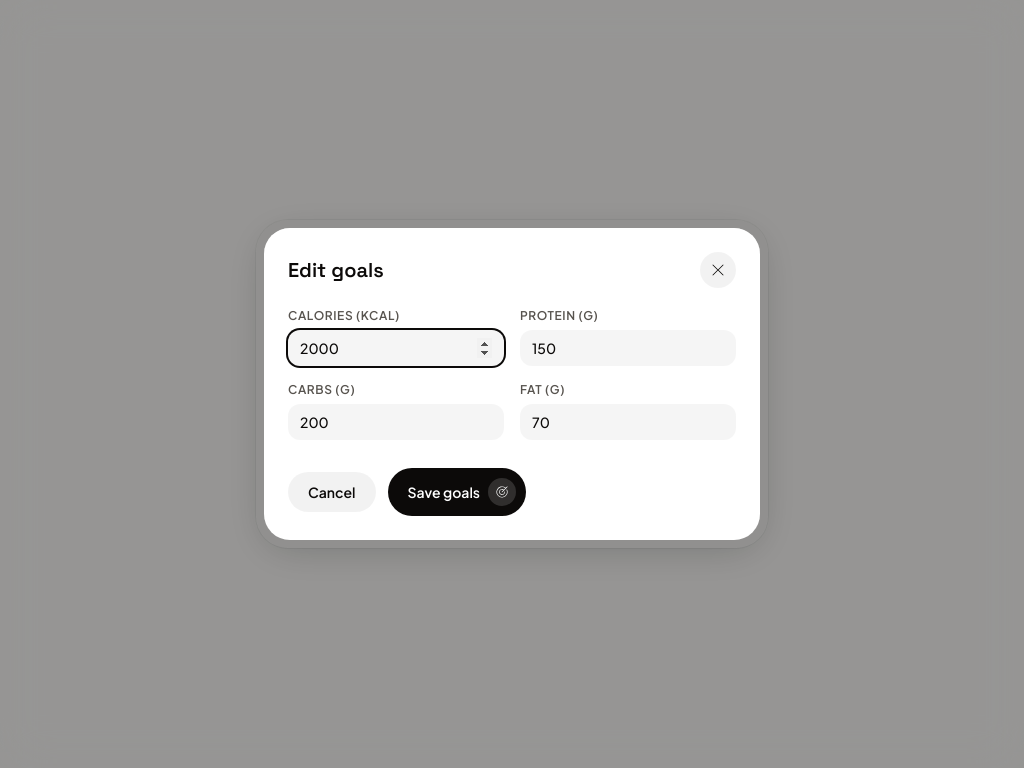
it: GoalsModal — submit flow › shows an API-failure error state (role=alert) and keeps the modal open
Click the button "Save goals": (457, 492) [388,468,526,516]
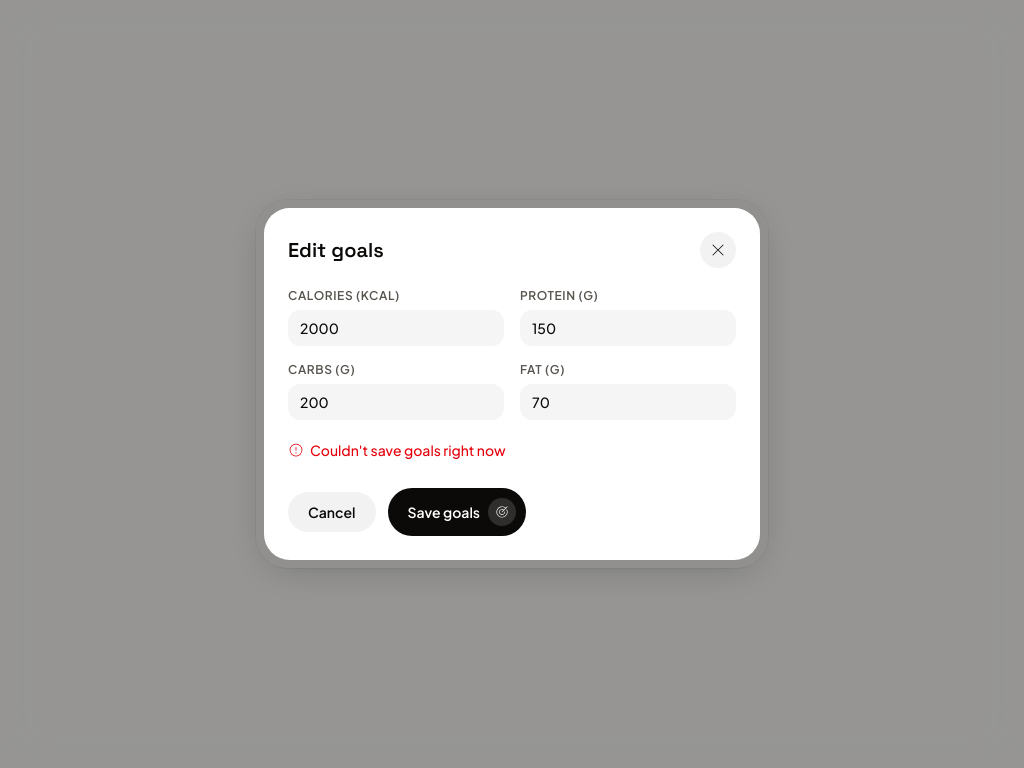
Result: the message reads "Couldn't save goals right now" at [310,441,506,459]
